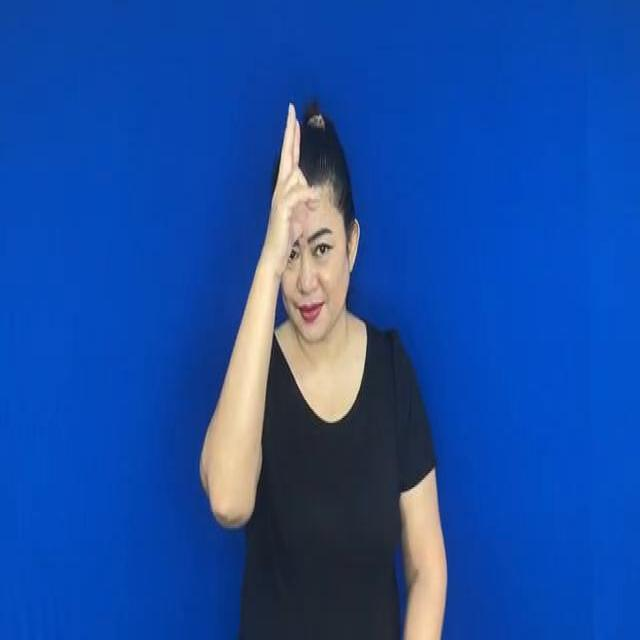chicken: (270, 82, 320, 232)
